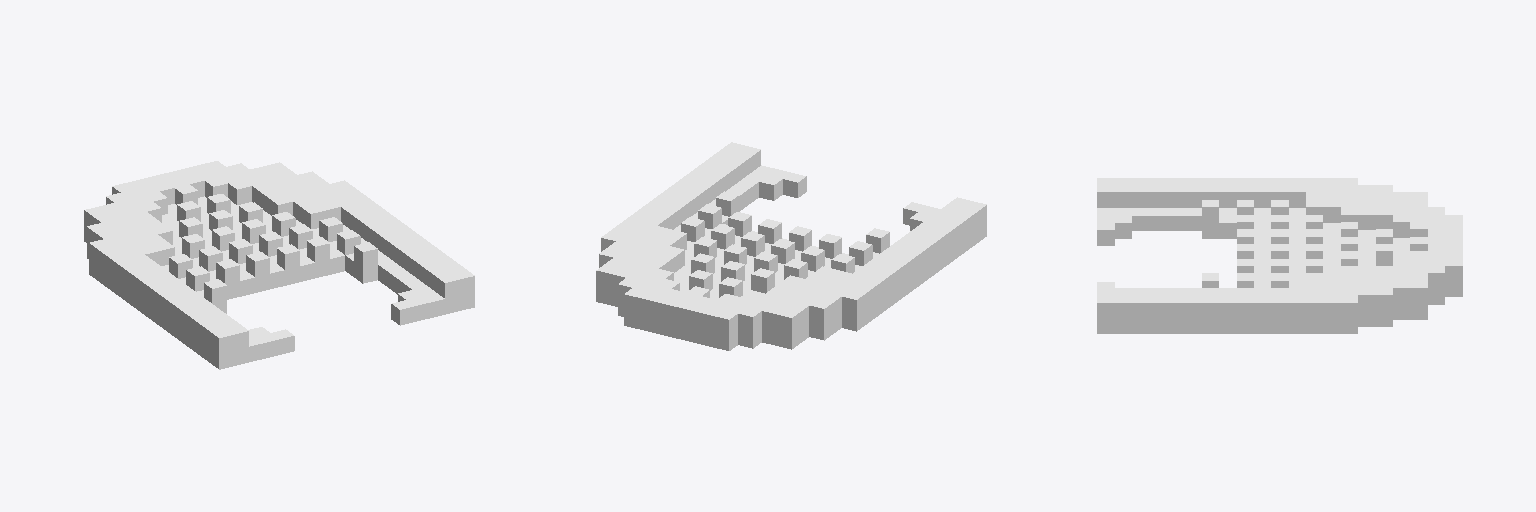
The model's file is trap01.obj.
3 renders of one model, left to right at view 1: azimuth 30°, elevation 25°; view 2: azimuth 150°, elevation 25°; view 3: azimuth 270°, elevation 25°, orthographic.
Visible parts, largest first — view 1: object 1; view 2: object 1; view 3: object 1.
Boxes of the visible parts, <box> form: object 1: <box>84,161,474,369</box>; object 1: <box>596,142,986,350</box>; object 1: <box>1097,178,1462,333</box>.
Size of the model in its own units: 1.7 by 0.2 by 2.1.